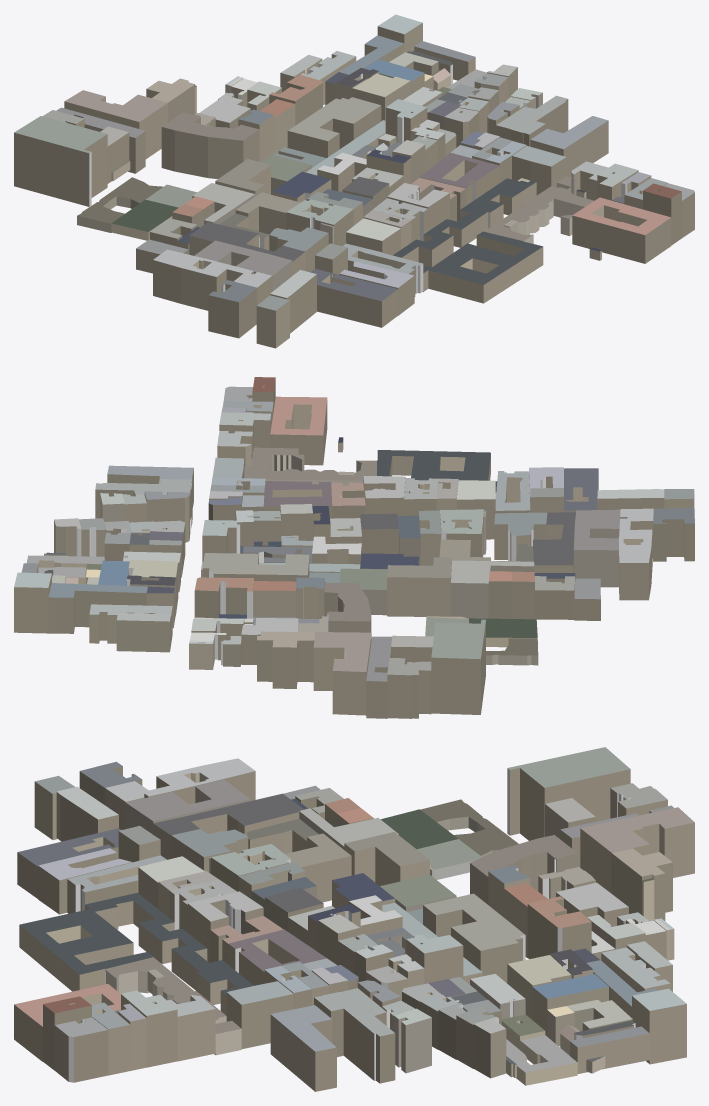
3 views of the same model, one above another, from view 1: azimuth 30°, elevation 25°; view 2: azimuth 150°, elevation 25°; view 3: azimuth 270°, elevation 25° (orthographic). The views are drawn at different scales.
Visible parts, largest first — view 1: tuile; view 2: tuile; view 3: tuile.
Boxes of the visible parts, bbox=[...] form: tuile: bbox=[14, 14, 694, 348]; tuile: bbox=[14, 377, 694, 718]; tuile: bbox=[14, 747, 694, 1091].
Size of the model in its own units: 278 by 29.28 by 275.
